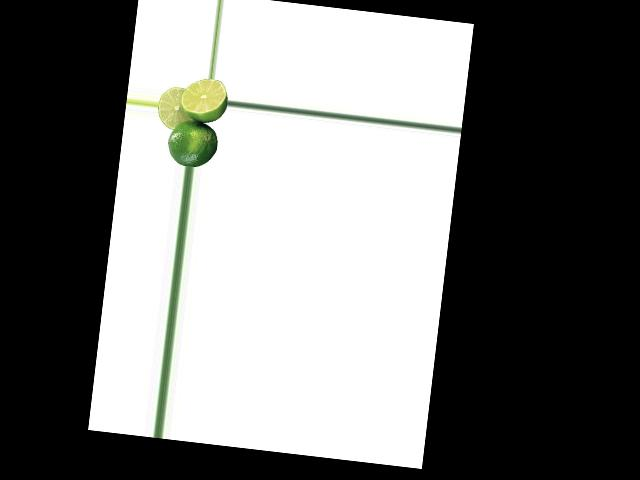lemon: (166, 115, 218, 168)
